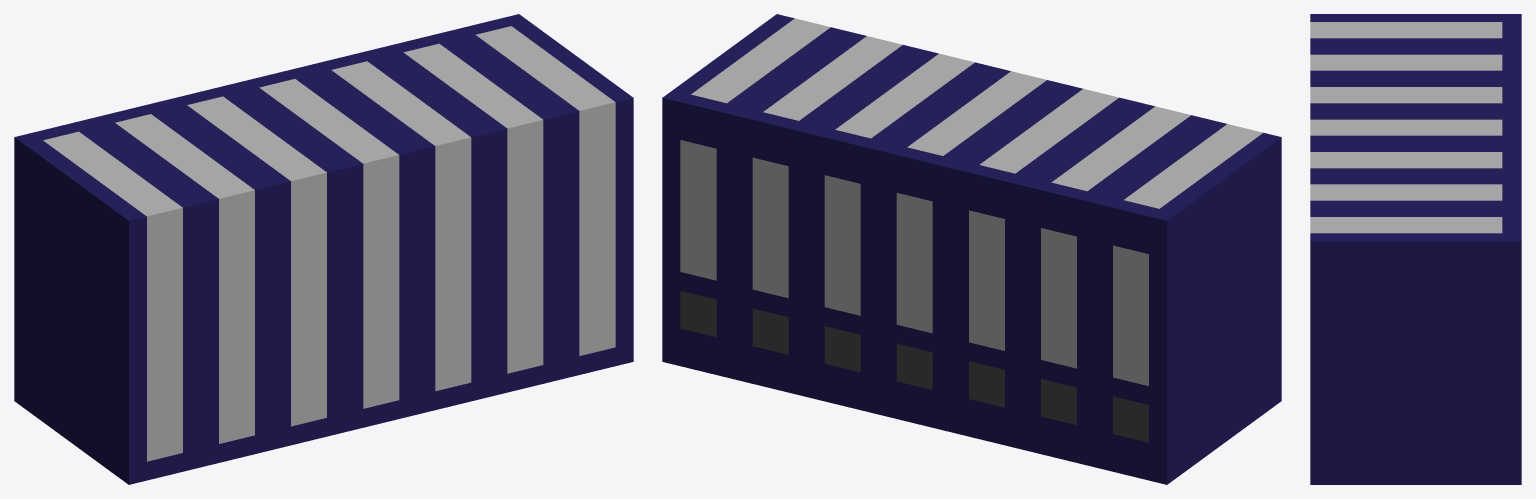
Rendered from files_box_02.glb.
3 views of the same model, side by side, from view 1: azimuth 30°, elevation 25°; view 2: azimuth 150°, elevation 25°; view 3: azimuth 270°, elevation 25° (orthographic). The views are drawn at different scales.
Visible parts, largest first — view 1: Untitled; view 2: Untitled; view 3: Untitled.
Part boxes in pixels (bbox=[...]): Untitled: bbox=[14, 14, 633, 484]; Untitled: bbox=[662, 14, 1281, 484]; Untitled: bbox=[1310, 14, 1521, 484].
Bounding box in the file's own units: 0.84 × 0.42 × 0.33.
1 material, 1 textured.
